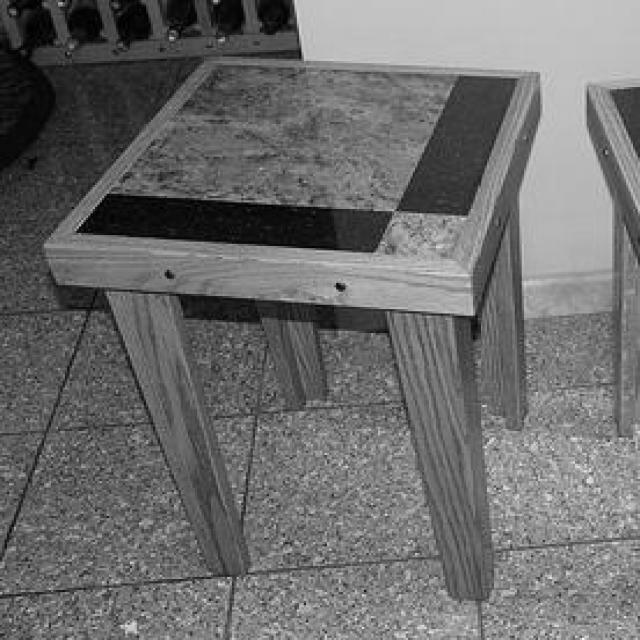table: (41, 53, 544, 603)
